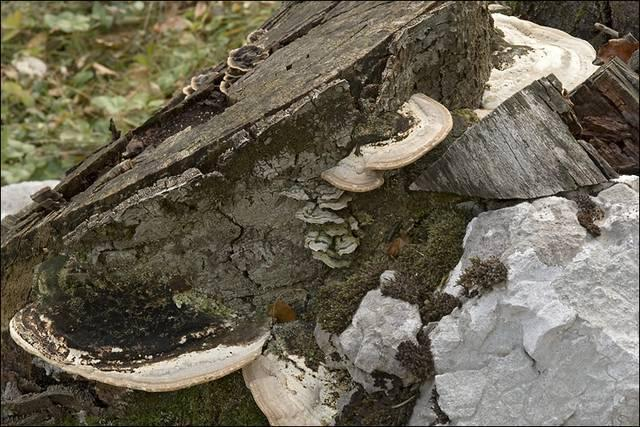Non-edible Mushroom: (319, 90, 453, 193)
